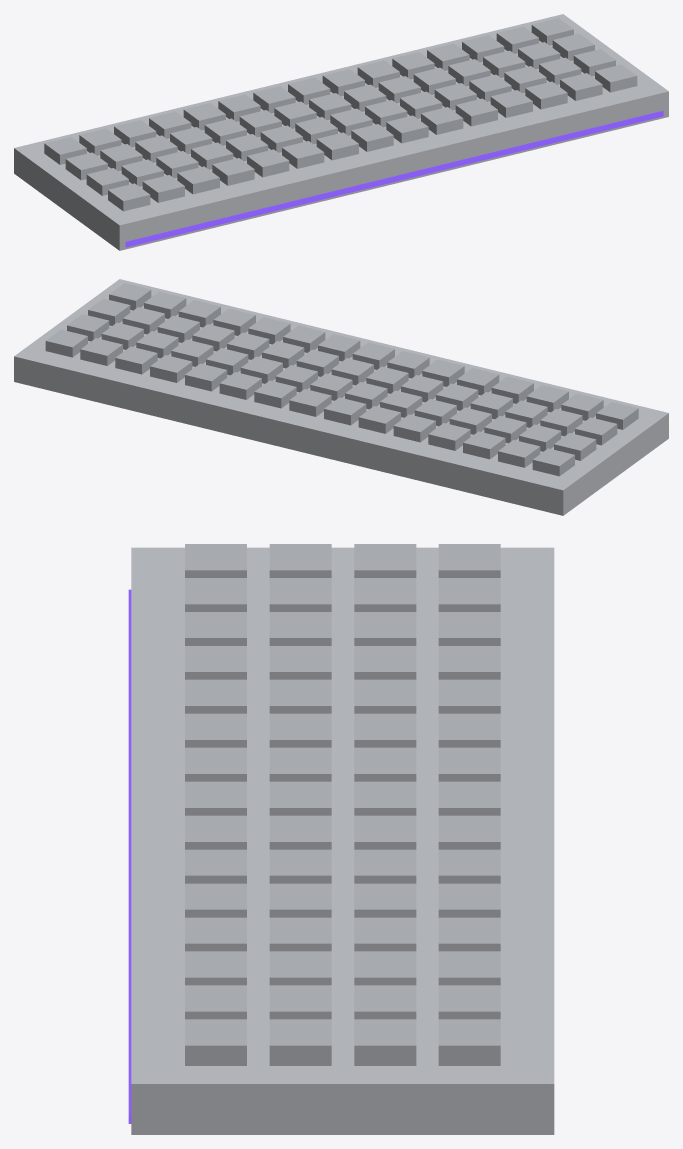
Rendered from Tech_Keyboard.gltf.
3 views of the same model, one above another, from view 1: azimuth 30°, elevation 25°; view 2: azimuth 150°, elevation 25°; view 3: azimuth 270°, elevation 25° (orthographic). The views are drawn at different scales.
Parts seen in each view (by area): view 1: Tech_Keyboard; view 2: Tech_Keyboard; view 3: Tech_Keyboard.
Part boxes in pixels (<box>): Tech_Keyboard: <box>14,14,668,250</box>; Tech_Keyboard: <box>14,279,668,515</box>; Tech_Keyboard: <box>128,544,554,1134</box>.
Size of the model in its own units: 0.45 by 0.028 by 0.151.
